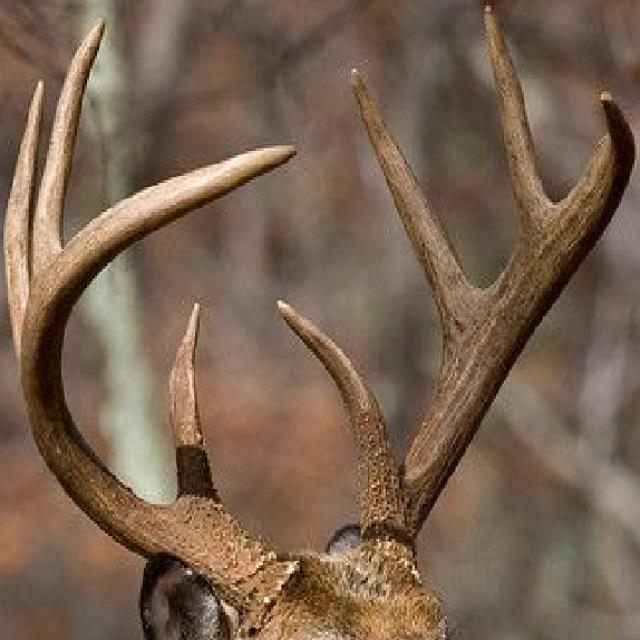L-F: (364, 90, 635, 541)
L-G1: (275, 299, 400, 499)
L-G2: (350, 68, 479, 361)
L-G3: (483, 5, 554, 235)
R-F: (21, 146, 295, 627)
R-G1: (169, 303, 218, 499)
R-G3: (33, 19, 106, 276)
